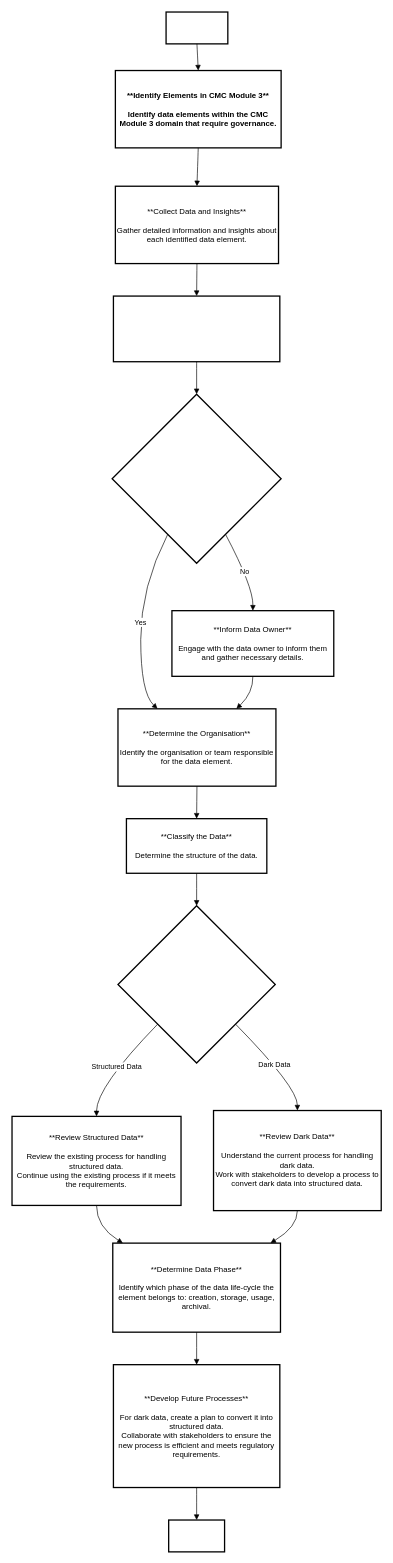
Image size: 393x1563. Some labels were removed from this diagram. The shapes that lost their labels are listed below. From the top down, each one's box as (x1, y1, x2, y2) in pixels, then its label:
(165, 11, 228, 44): Start
(112, 295, 280, 362): **Determine Data Ownership** Identify who is responsible for each data element.
(111, 393, 281, 564): Does the Data Owner know about the element?
(117, 905, 276, 1063): Is the data structured or dark?
(168, 1519, 225, 1552): End
